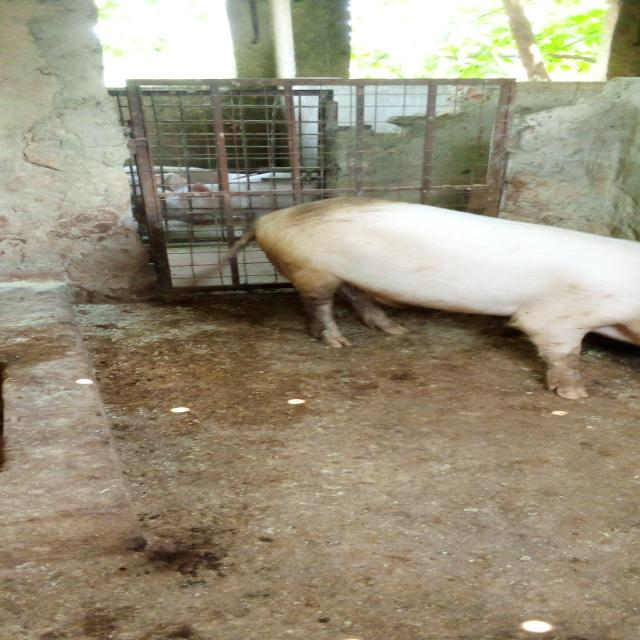pig: (100, 163, 640, 442)
